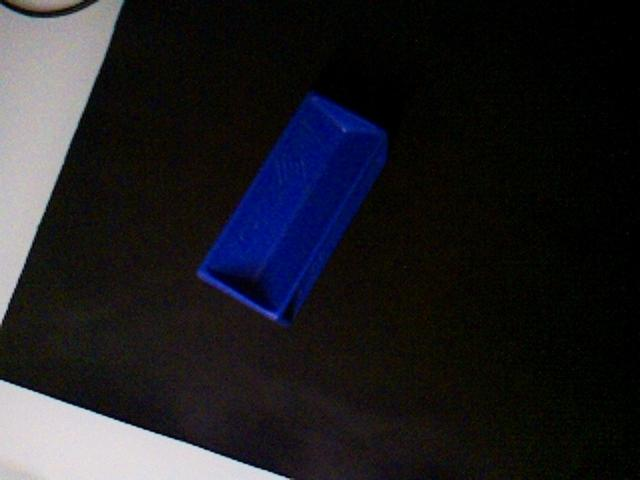blue: (194, 88, 391, 328)
